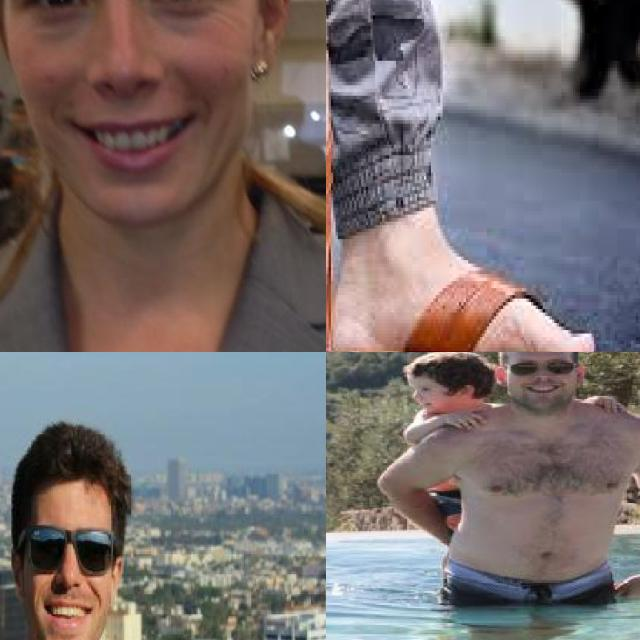No_Ear-Protection: (0, 0, 301, 234)
Sandals: (334, 217, 622, 352)
face_nomask: (21, 523, 118, 635), (407, 376, 442, 411)
glasses: (18, 512, 122, 574), (500, 352, 597, 382)
hand_noglove: (440, 406, 490, 436), (584, 392, 631, 420)
head_nohelmet: (9, 426, 134, 505), (399, 352, 480, 384)
person: (374, 352, 640, 624), (0, 419, 214, 640)
